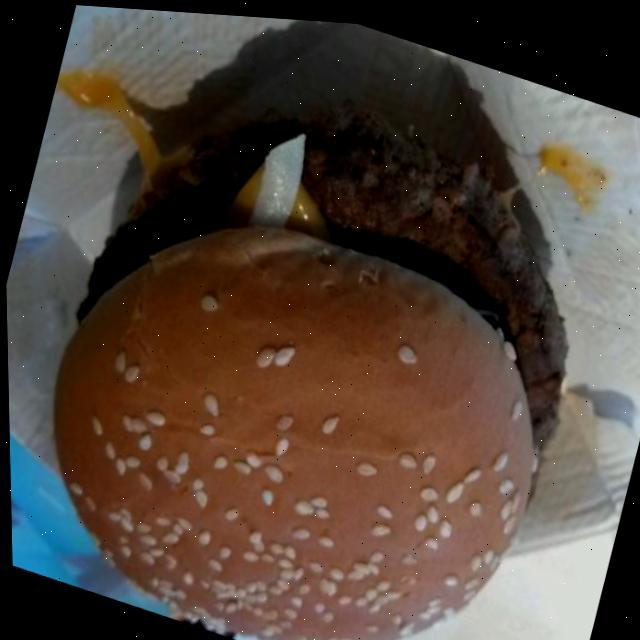汉堡快餐: (1, 7, 640, 640)
